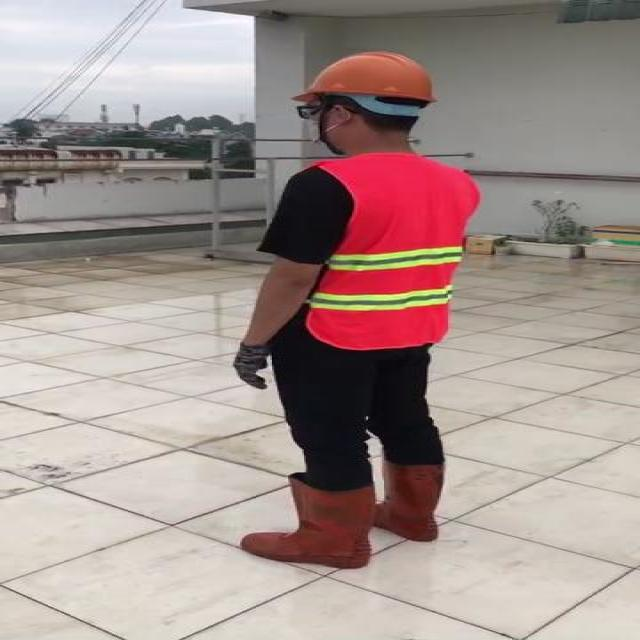boots: (242, 476, 375, 570), (372, 462, 449, 540)
hand_glove: (233, 340, 279, 393)
head_helmet: (289, 46, 436, 106)
person: (214, 46, 492, 572)
vest: (299, 155, 480, 349)
